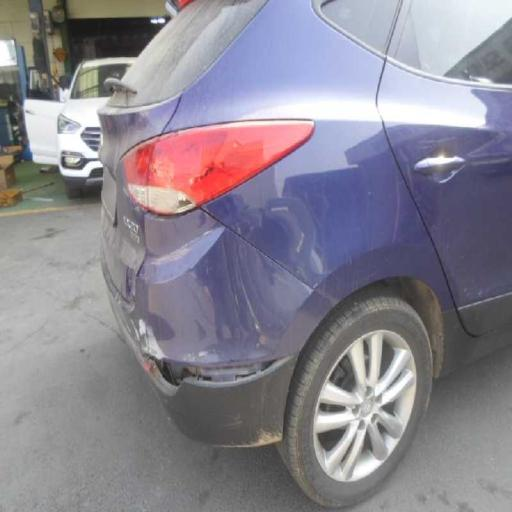scratch: (150, 175, 338, 368), (371, 111, 495, 220)
